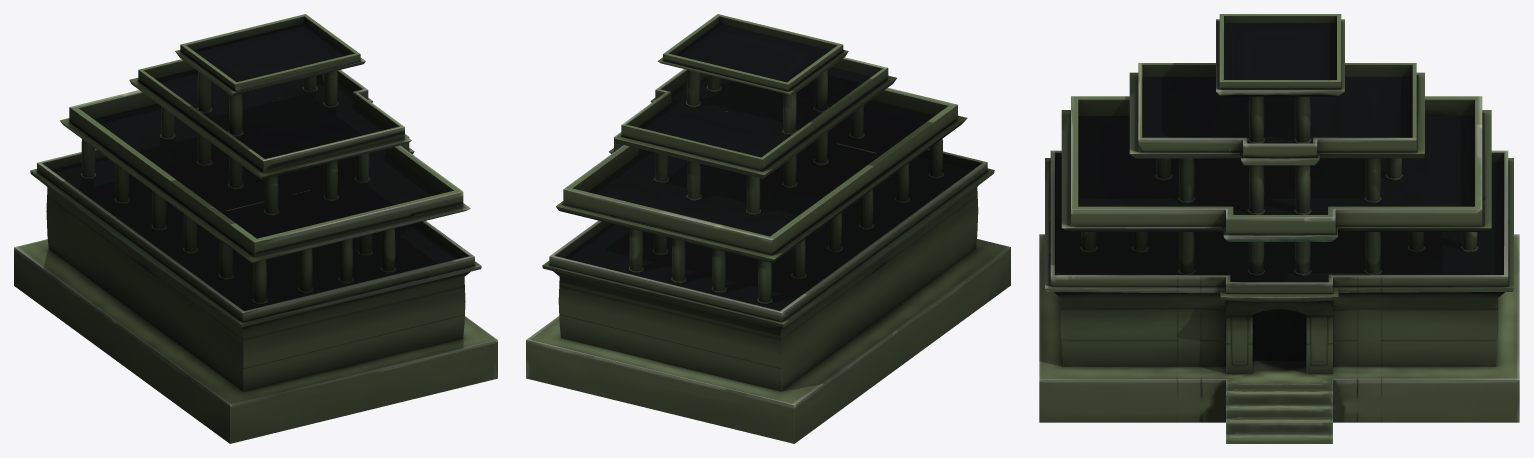
3 renders of one model, left to right at view 1: azimuth 30°, elevation 25°; view 2: azimuth 150°, elevation 25°; view 3: azimuth 270°, elevation 25°, orthographic. The views are drawn at different scales.
Parts seen in each view (by area): view 1: Nexus; view 2: Nexus; view 3: Nexus.
Part boxes in pixels (left/top/right/bottom): Nexus: left=14, top=14, right=497, bottom=443; Nexus: left=526, top=14, right=1010, bottom=443; Nexus: left=1039, top=14, right=1519, bottom=443.
Size of the model in its own units: 20.78 by 18.03 by 25.31.
1 material, 1 textured.
